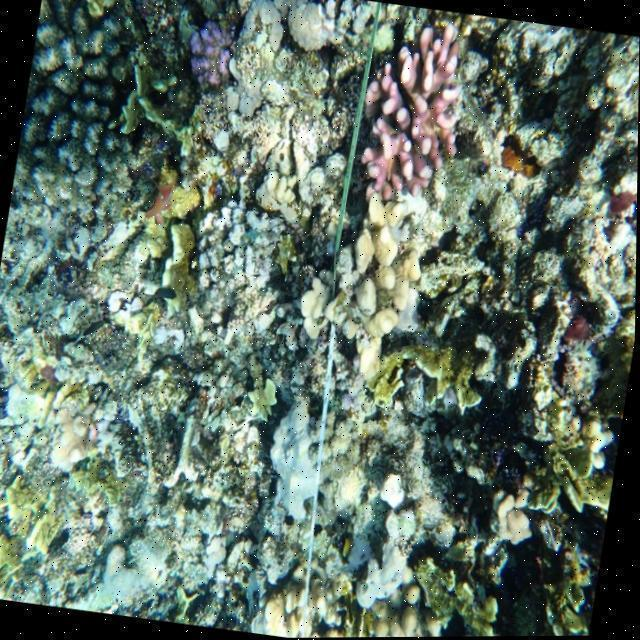Bleached Coral: (244, 382, 362, 539), (355, 464, 433, 626)
Healthy Coral: (337, 45, 495, 201)
